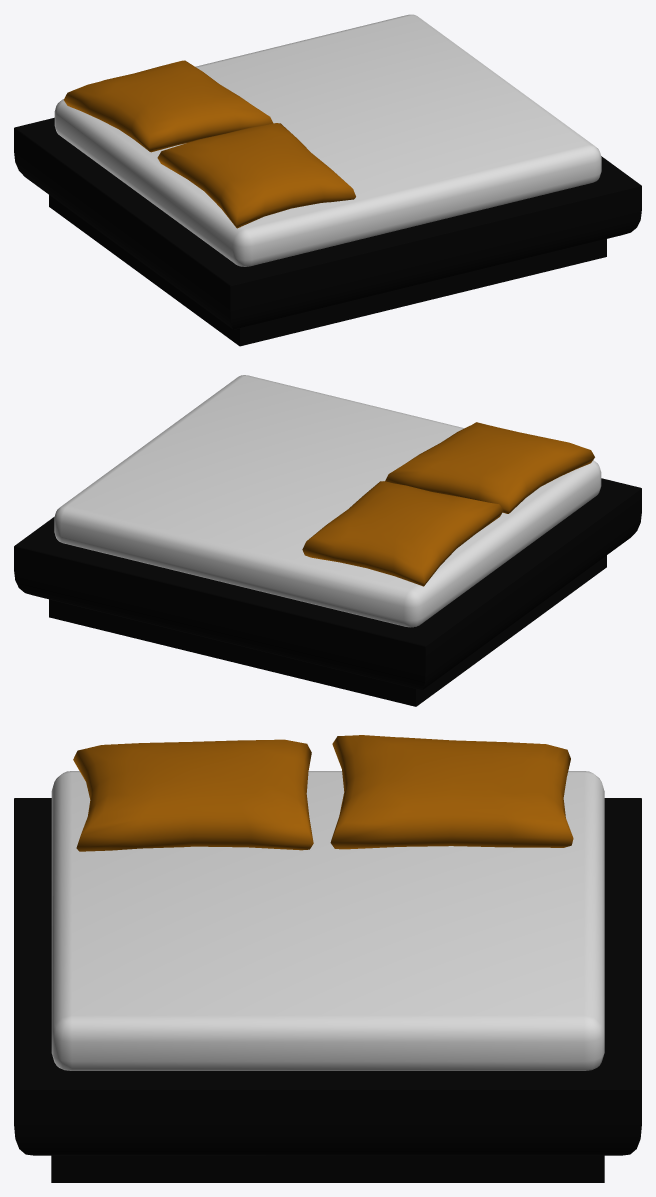
File: apartament_bed.fbx
3 renders of one model, top to bottom at view 1: azimuth 30°, elevation 25°; view 2: azimuth 150°, elevation 25°; view 3: azimuth 270°, elevation 25°, orthographic. The views are drawn at different scales.
Visible parts, largest first — view 1: bed; view 2: bed; view 3: bed.
Boxes of the visible parts, x1,y1,x2,y2 form: bed: (14, 14, 641, 346); bed: (14, 375, 641, 706); bed: (14, 735, 641, 1182).
Bounding box in the file's own units: 200 × 66.12 × 182.
